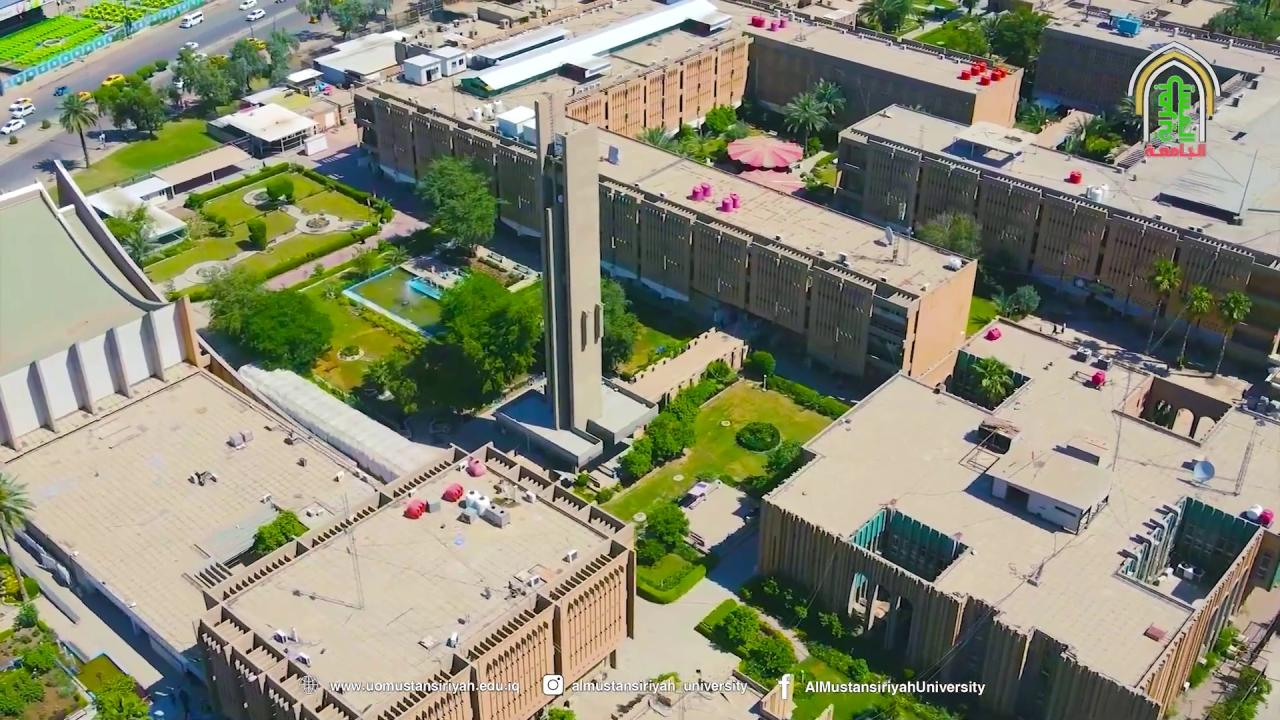car: (8, 97, 35, 114), (179, 10, 203, 28), (101, 73, 129, 88), (245, 8, 265, 21), (52, 85, 69, 96), (78, 91, 94, 102), (238, 0, 256, 9), (172, 76, 184, 89)
fountain: (406, 267, 456, 308)
tree: (164, 262, 334, 377), (437, 271, 544, 396), (412, 152, 509, 257), (237, 285, 334, 376), (634, 101, 761, 166), (169, 46, 236, 110), (360, 346, 420, 416), (599, 275, 641, 374), (102, 200, 160, 271), (993, 3, 1053, 68), (1203, 665, 1271, 719), (736, 631, 796, 689), (1213, 289, 1252, 376), (1203, 0, 1279, 44), (919, 207, 982, 260), (782, 91, 832, 157), (1176, 283, 1214, 369), (57, 91, 99, 168), (0, 470, 35, 557), (113, 82, 165, 138), (1152, 76, 1195, 142), (91, 672, 151, 719), (251, 509, 308, 557), (920, 20, 990, 59), (1063, 114, 1122, 160), (645, 411, 695, 465), (969, 354, 1014, 408), (0, 666, 45, 718), (226, 37, 265, 93), (1146, 255, 1181, 317), (646, 501, 690, 550), (676, 123, 726, 165), (266, 25, 300, 86), (856, 0, 912, 34), (798, 149, 838, 193), (721, 604, 760, 646), (329, 0, 371, 39), (619, 434, 653, 479), (734, 420, 780, 451), (762, 438, 800, 475), (1115, 93, 1143, 143), (600, 275, 628, 325), (812, 77, 846, 118), (743, 349, 776, 391), (1183, 282, 1213, 328), (386, 376, 419, 415), (20, 641, 56, 675), (704, 102, 738, 136), (1009, 284, 1040, 320), (632, 534, 664, 566), (1018, 100, 1049, 133), (701, 357, 736, 386), (375, 239, 410, 268), (990, 285, 1016, 319), (265, 174, 294, 202), (817, 610, 844, 639), (295, 0, 327, 23), (245, 218, 267, 250), (653, 670, 681, 690), (546, 705, 576, 719), (958, 0, 980, 14)
